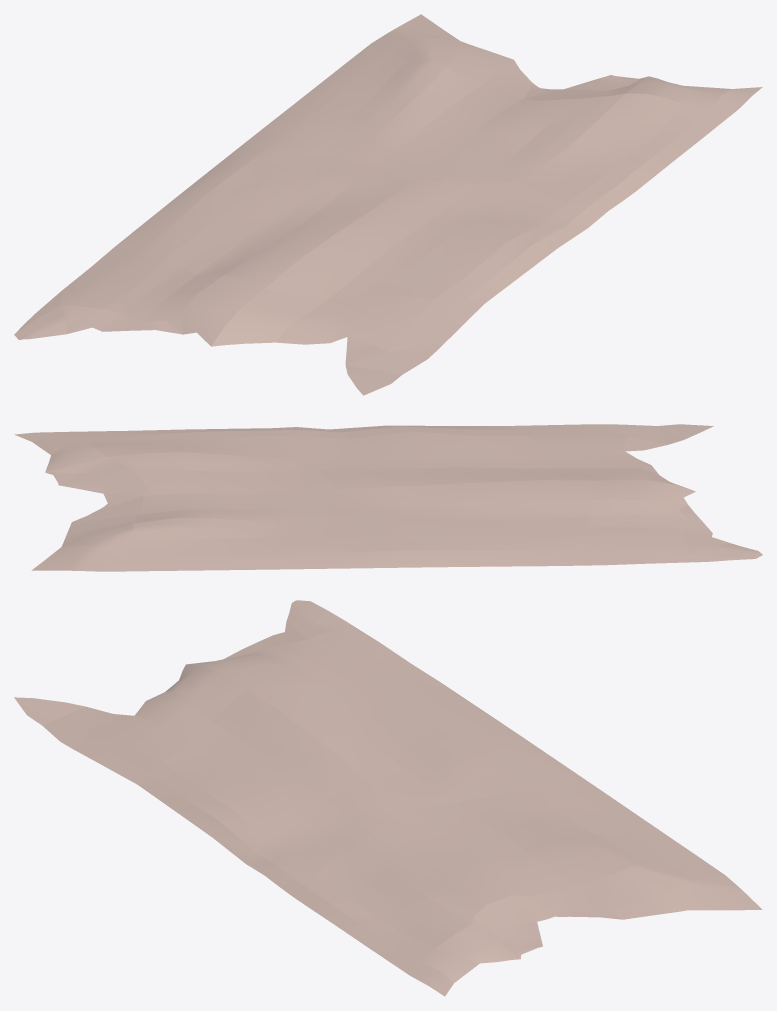
Rendered from tape1.glb.
3 views of the same model, one above another, from view 1: azimuth 30°, elevation 25°; view 2: azimuth 150°, elevation 25°; view 3: azimuth 270°, elevation 25° (orthographic). The views are drawn at different scales.
Bounding box in the file's own units: 13.65 × 0.3322 × 10.93.
